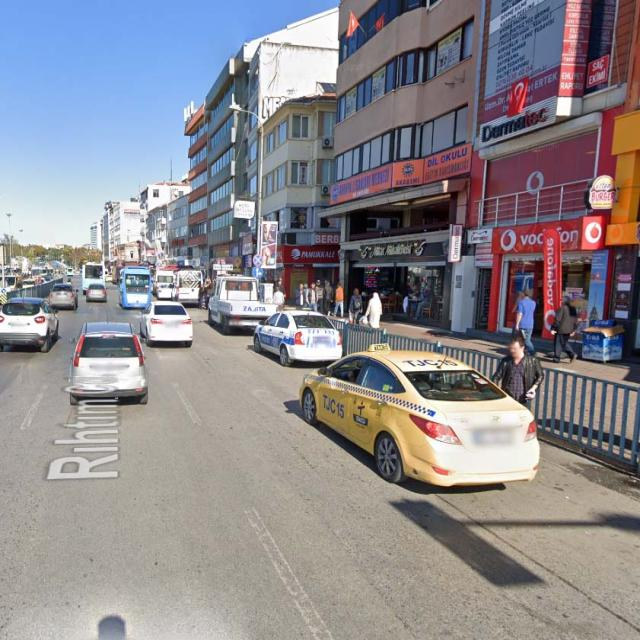ilerisag: (253, 266, 264, 281)
